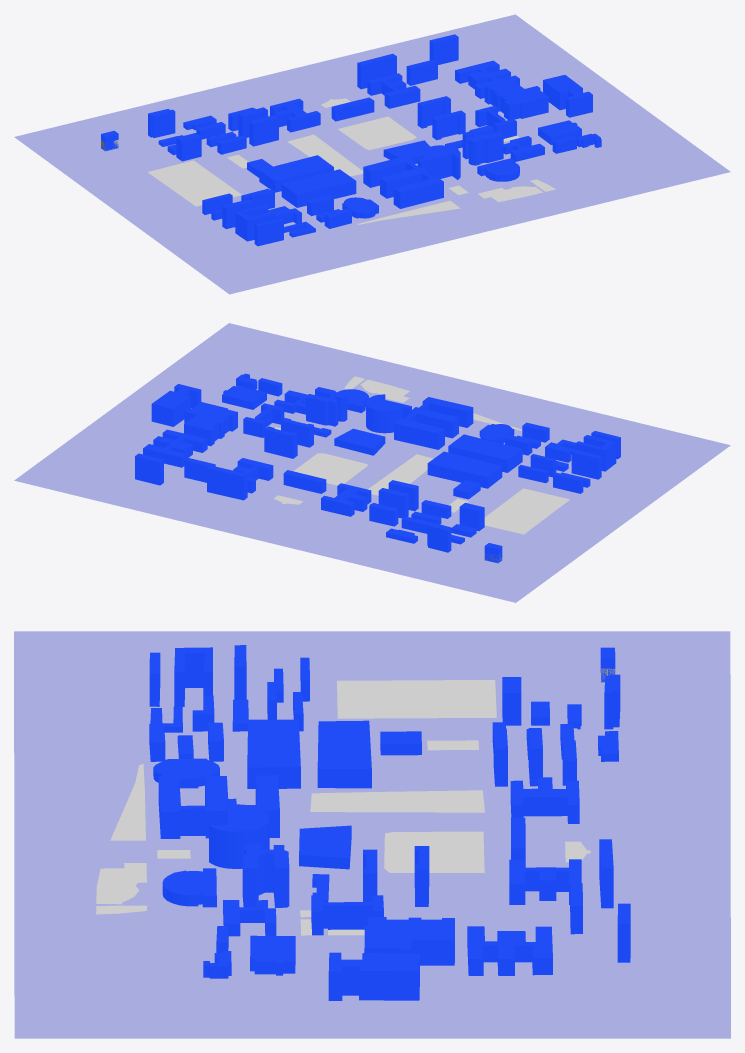
3 views of the same model, one above another, from view 1: azimuth 30°, elevation 25°; view 2: azimuth 150°, elevation 25°; view 3: azimuth 270°, elevation 25° (orthographic). The views are drawn at different scales.
Parts seen in each view (by area): view 1: ground, building, leisure, natural, landuse; view 2: ground, building, leisure, landuse, natural; view 3: ground, building, leisure, landuse, natural.
Boxes of the visible parts, x1=… form: ground: x1=14, y1=14, x2=730, y2=294; building: x1=101, y1=34, x2=601, y2=246; leisure: x1=101, y1=134, x2=363, y2=206; natural: x1=321, y1=98, x2=555, y2=224; landuse: x1=338, y1=116, x2=519, y2=150; ground: x1=14, y1=323, x2=730, y2=602; building: x1=135, y1=373, x2=620, y2=563; leisure: x1=368, y1=454, x2=569, y2=562; landuse: x1=270, y1=426, x2=367, y2=485; natural: x1=274, y1=376, x2=522, y2=504; ground: x1=14, y1=631, x2=730, y2=1038; building: x1=149, y1=645, x2=630, y2=1000; leisure: x1=310, y1=668, x2=615, y2=812; landuse: x1=300, y1=831, x2=484, y2=935; natural: x1=96, y1=764, x2=590, y2=914.
Size of the model in its own units: 397 by 19 by 295.
